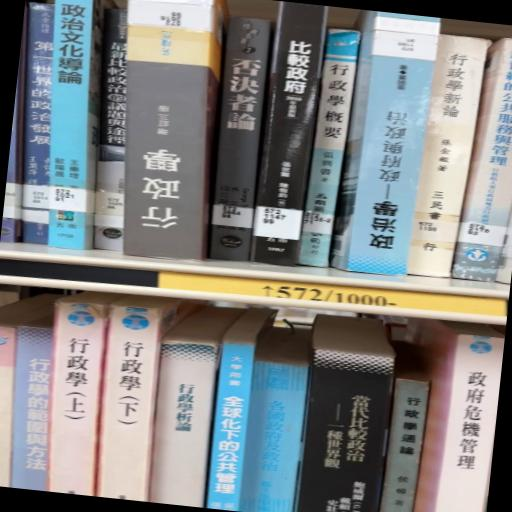reverse: (331, 11, 440, 276), (125, 1, 229, 261)
